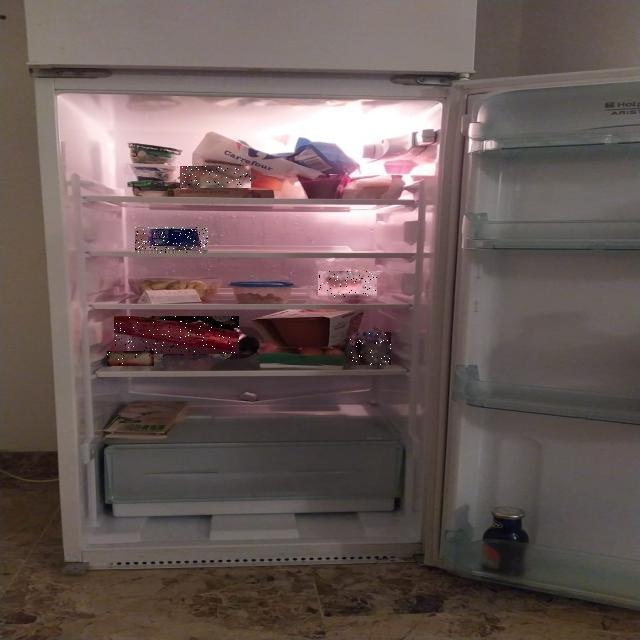Butter: (107, 351, 154, 366)
Eggs: (180, 166, 251, 188), (318, 272, 377, 298)
Ham: (114, 316, 239, 354)
Yoghurt: (135, 228, 208, 254), (349, 332, 391, 365)
